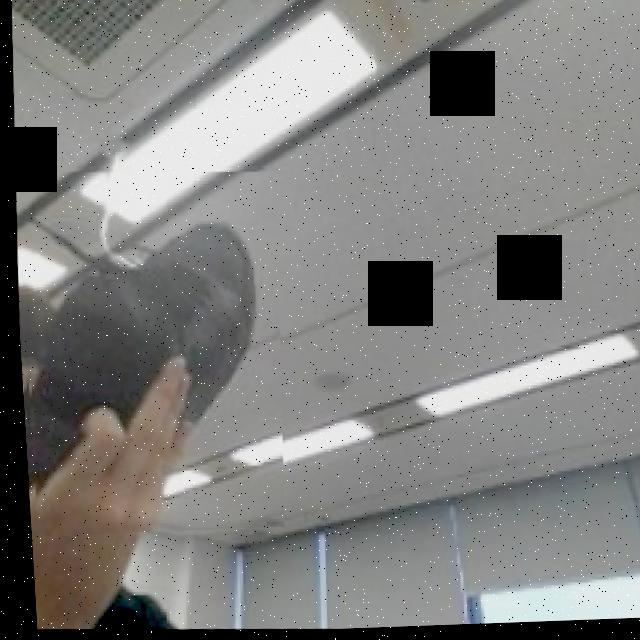shoe: (8, 164, 289, 545)
